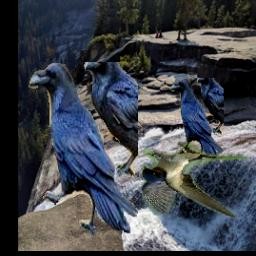Crow: (28, 63, 137, 237), (170, 78, 224, 162)
Swallow: (141, 142, 246, 219)
